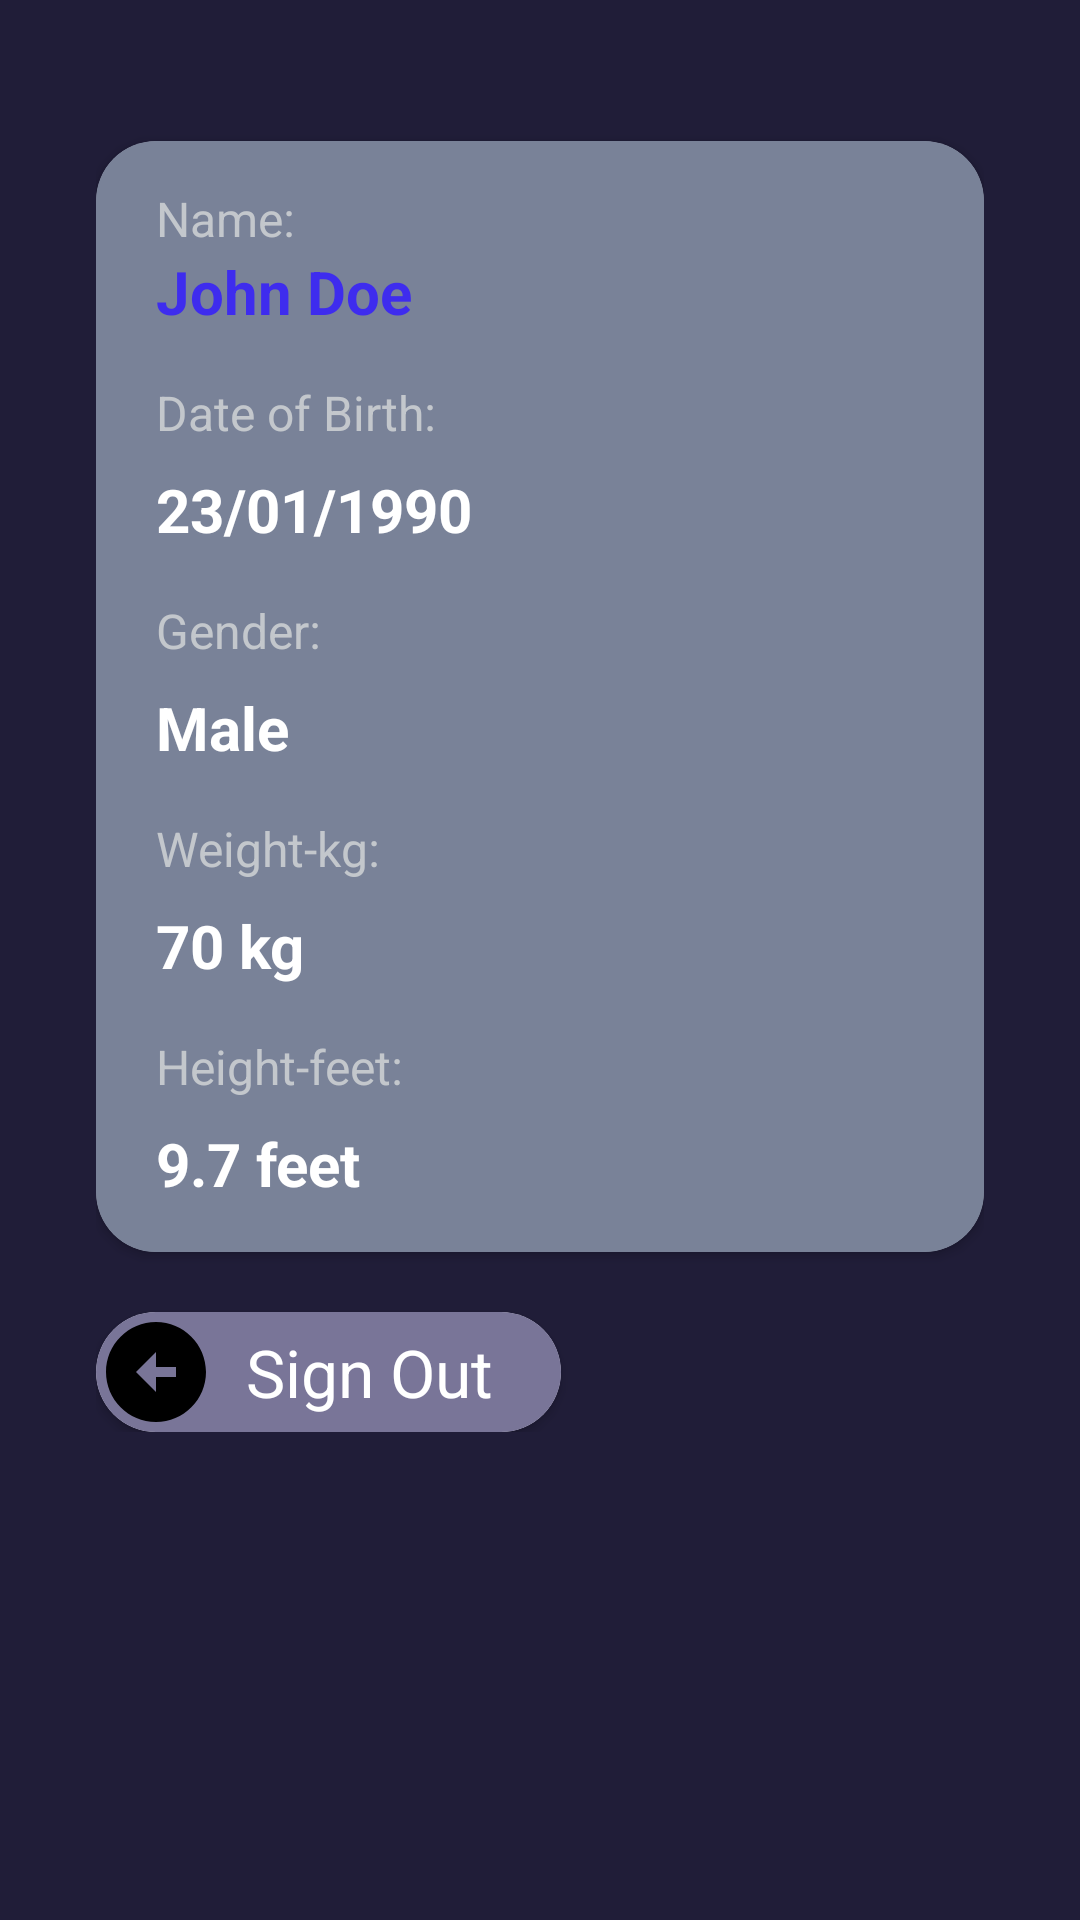

Icon click points for this 1080w x 1920h phone screenshot, format [x,y]:
arrow circle: [156,1372]
